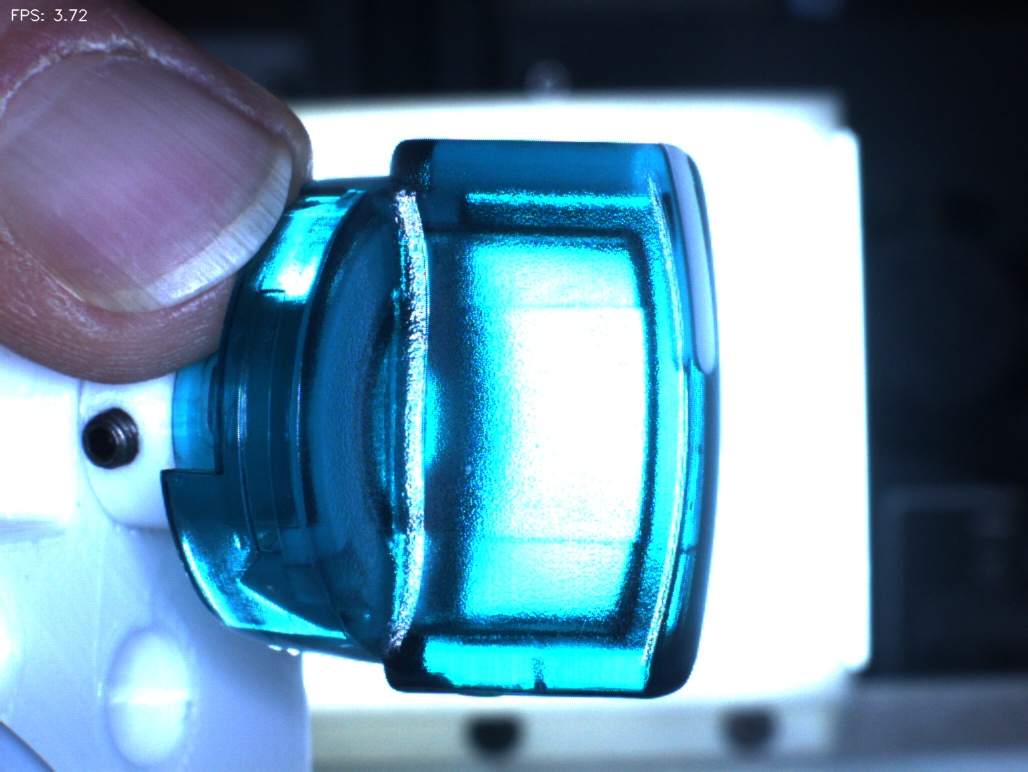Bulle: (492, 633, 590, 719)
